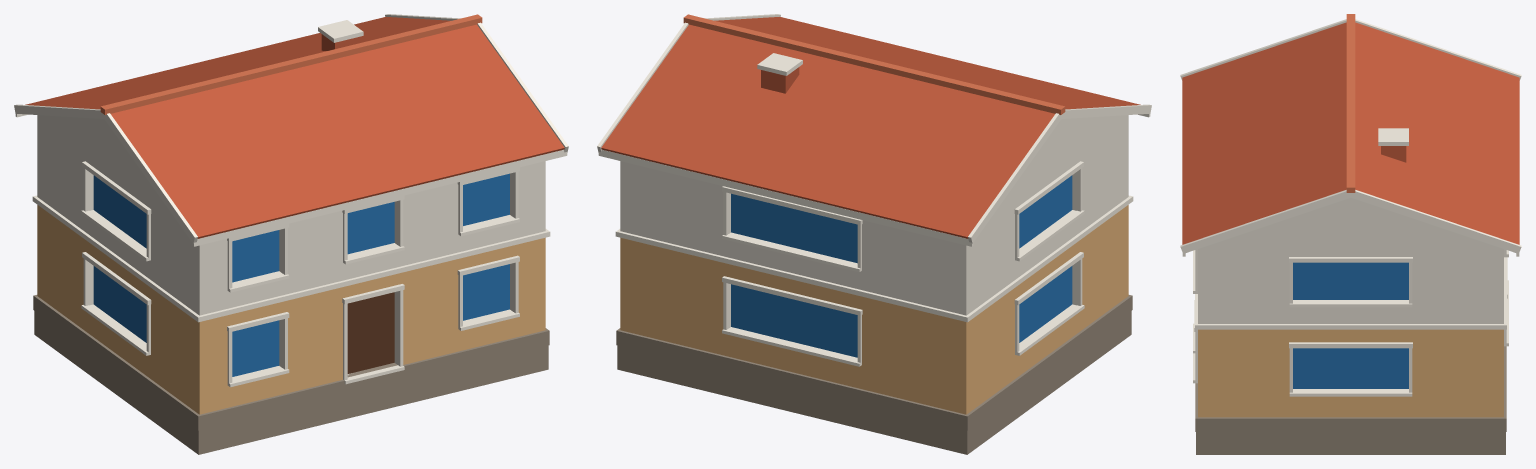
File: 05b_lowrise_village-lod1.glb
3 views of the same model, side by side, from view 1: azimuth 30°, elevation 25°; view 2: azimuth 150°, elevation 25°; view 3: azimuth 270°, elevation 25° (orthographic). The views are drawn at different scales.
Parts seen in each view (by area): view 1: LowriseVillage_LOD1; view 2: LowriseVillage_LOD1; view 3: LowriseVillage_LOD1.
Boxes of the visible parts, x1,y1,x2,y2 form: LowriseVillage_LOD1: (14,14,568,454); LowriseVillage_LOD1: (597,14,1151,454); LowriseVillage_LOD1: (1180,14,1521,454).
Bounding box in the file's own units: 11.56 × 8.49 × 9.59.
2 materials, 2 textured.
